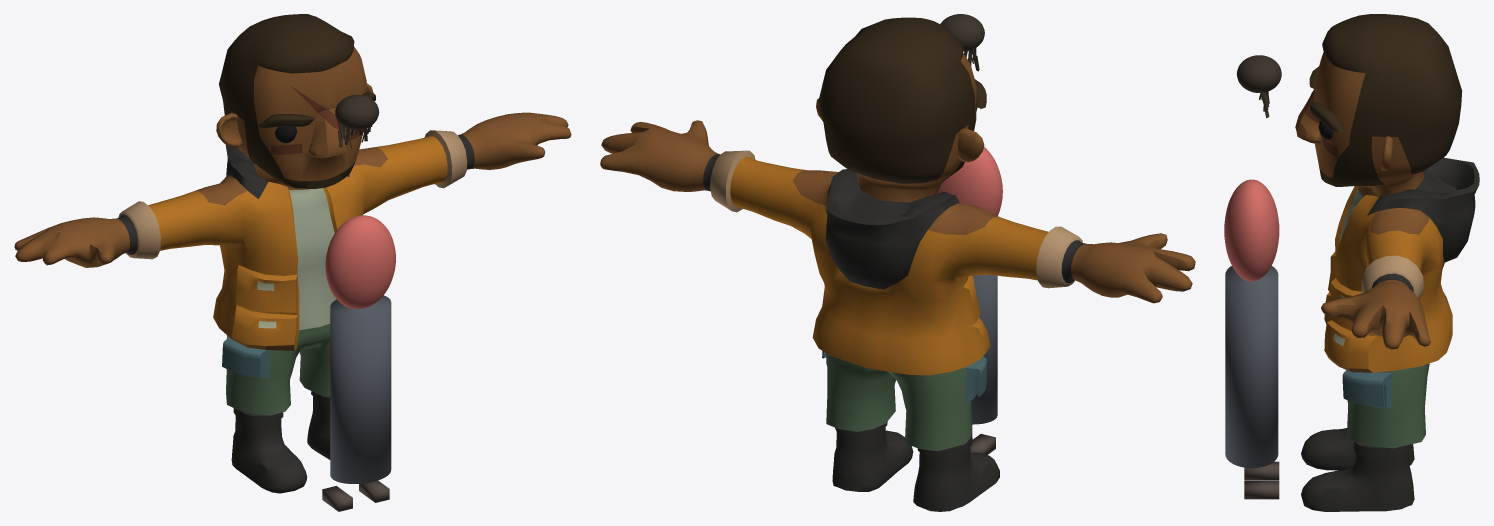
Rendered from hm_ped_dane_v12.glb.
3 renders of one model, left to right at view 1: azimuth 30°, elevation 25°; view 2: azimuth 150°, elevation 25°; view 3: azimuth 270°, elevation 25°, orthographic. The views are drawn at different scales.
Visible parts, largest first — view 1: hm_ped_dane; view 2: hm_ped_dane; view 3: hm_ped_dane.
Boxes of the visible parts, left/top/right/bottom form: hm_ped_dane: left=14, top=14, right=571, bottom=511; hm_ped_dane: left=600, top=14, right=1195, bottom=511; hm_ped_dane: left=1224, top=14, right=1479, bottom=511.
Bounding box in the file's own units: 2.71 × 2.04 × 1.02.
Materials: 6 (1 with a texture image).
